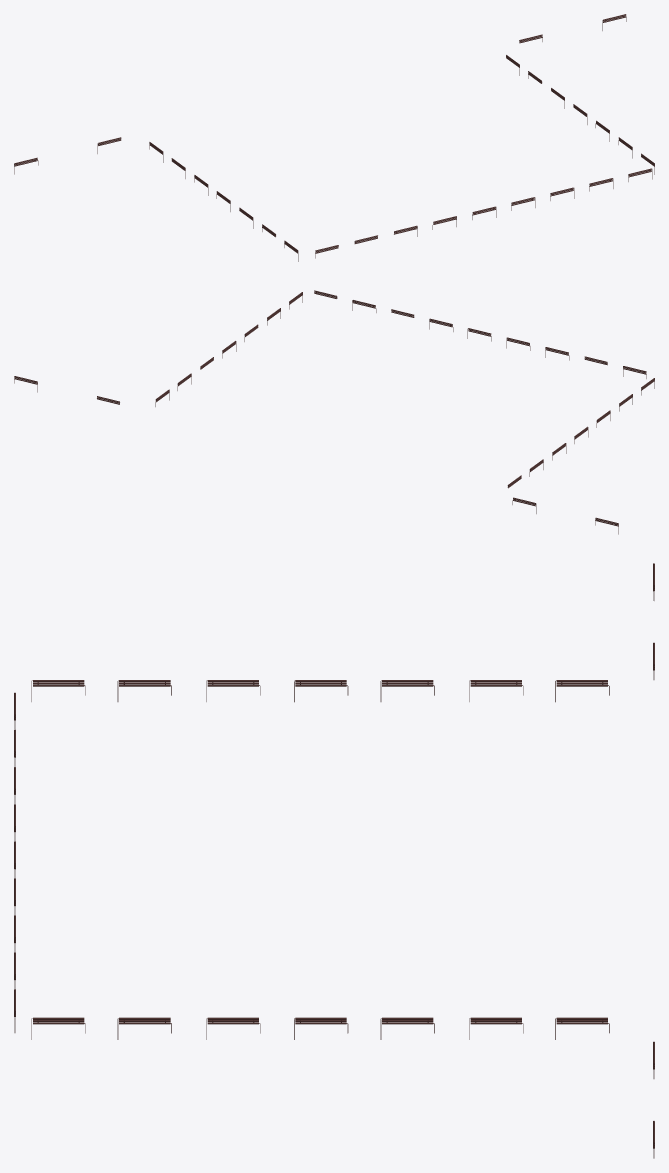
The model's file is radiators.fbx.
The picture shows the model from 3 angles, top to bottom: view 1: azimuth 30°, elevation 25°; view 2: azimuth 150°, elevation 25°; view 3: azimuth 270°, elevation 25°; orthographic projection. The views are drawn at different scales.
Bounding box in the file's own units: 10468 × 186 × 4887.
